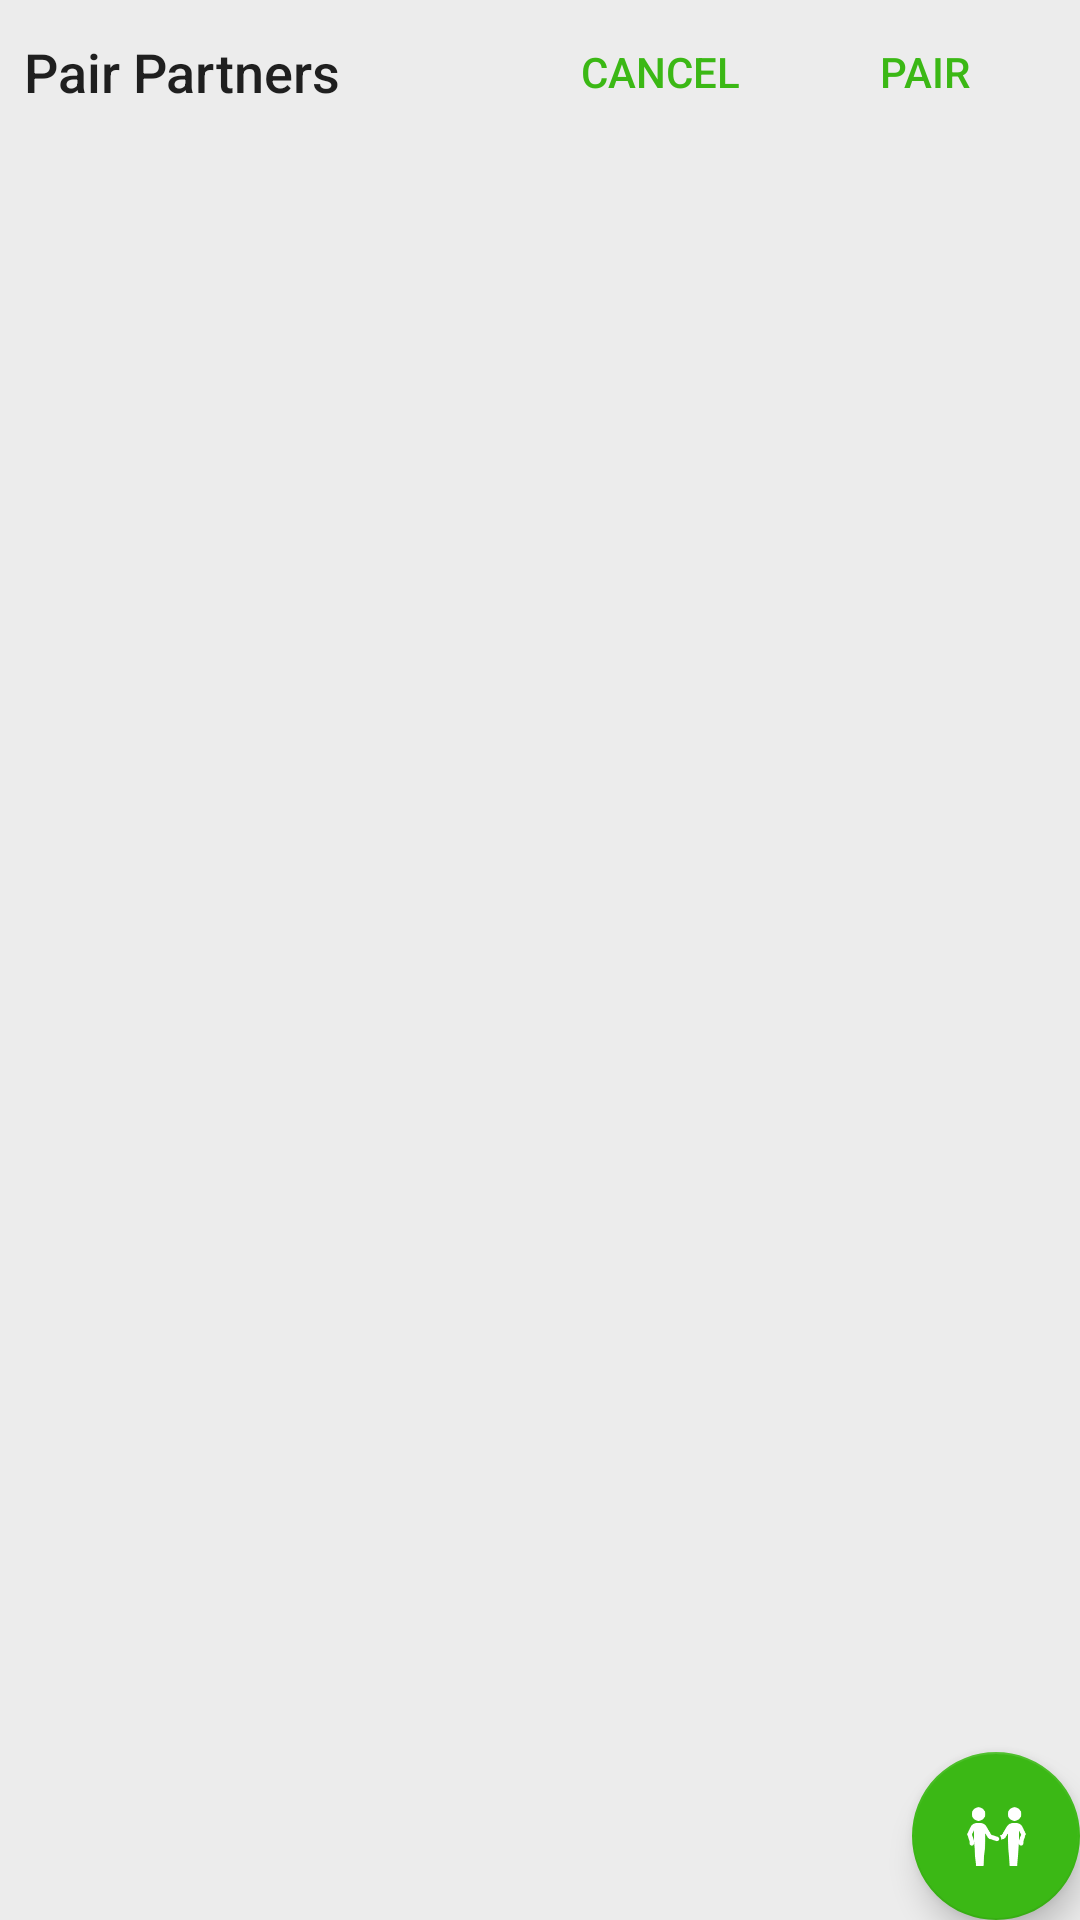

Screen size 1080×1920. Icon name, then its box in pixels as bbox=(x1, y1, x2, y2):
fab pair partner: bbox=(912, 1752, 1080, 1920)
